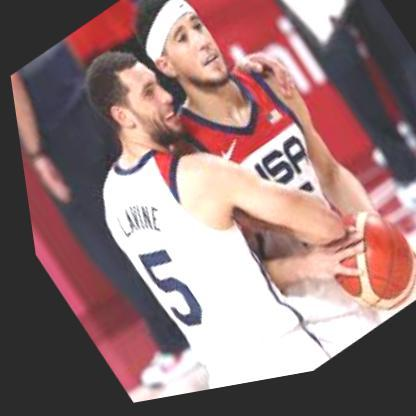basketball: (296, 200, 416, 344)
